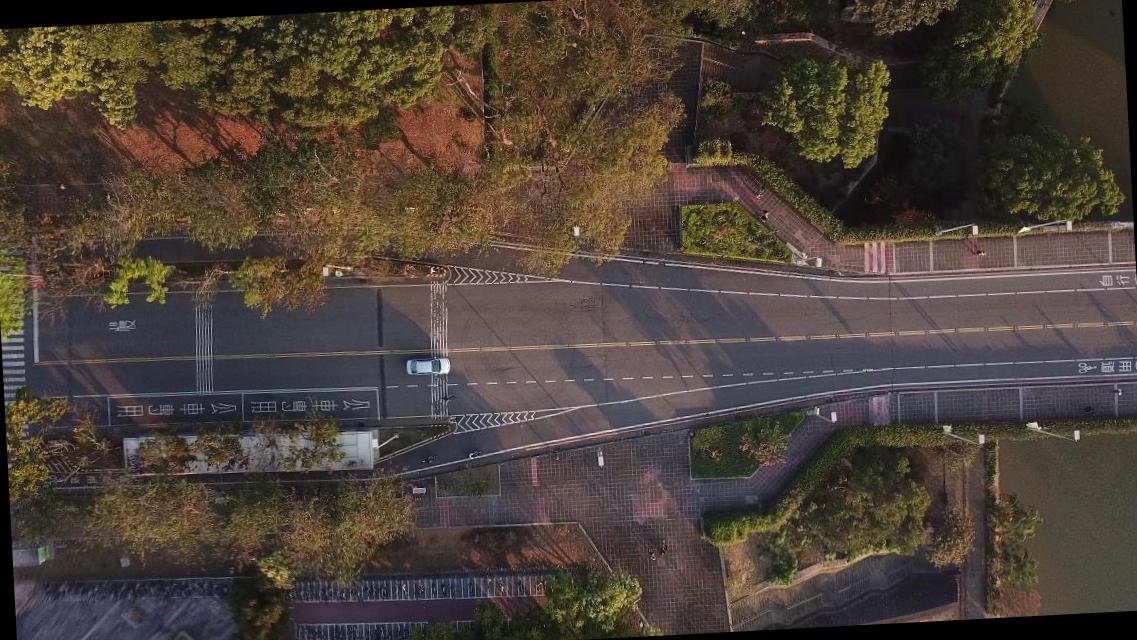vehicle: (404, 356, 450, 378)
